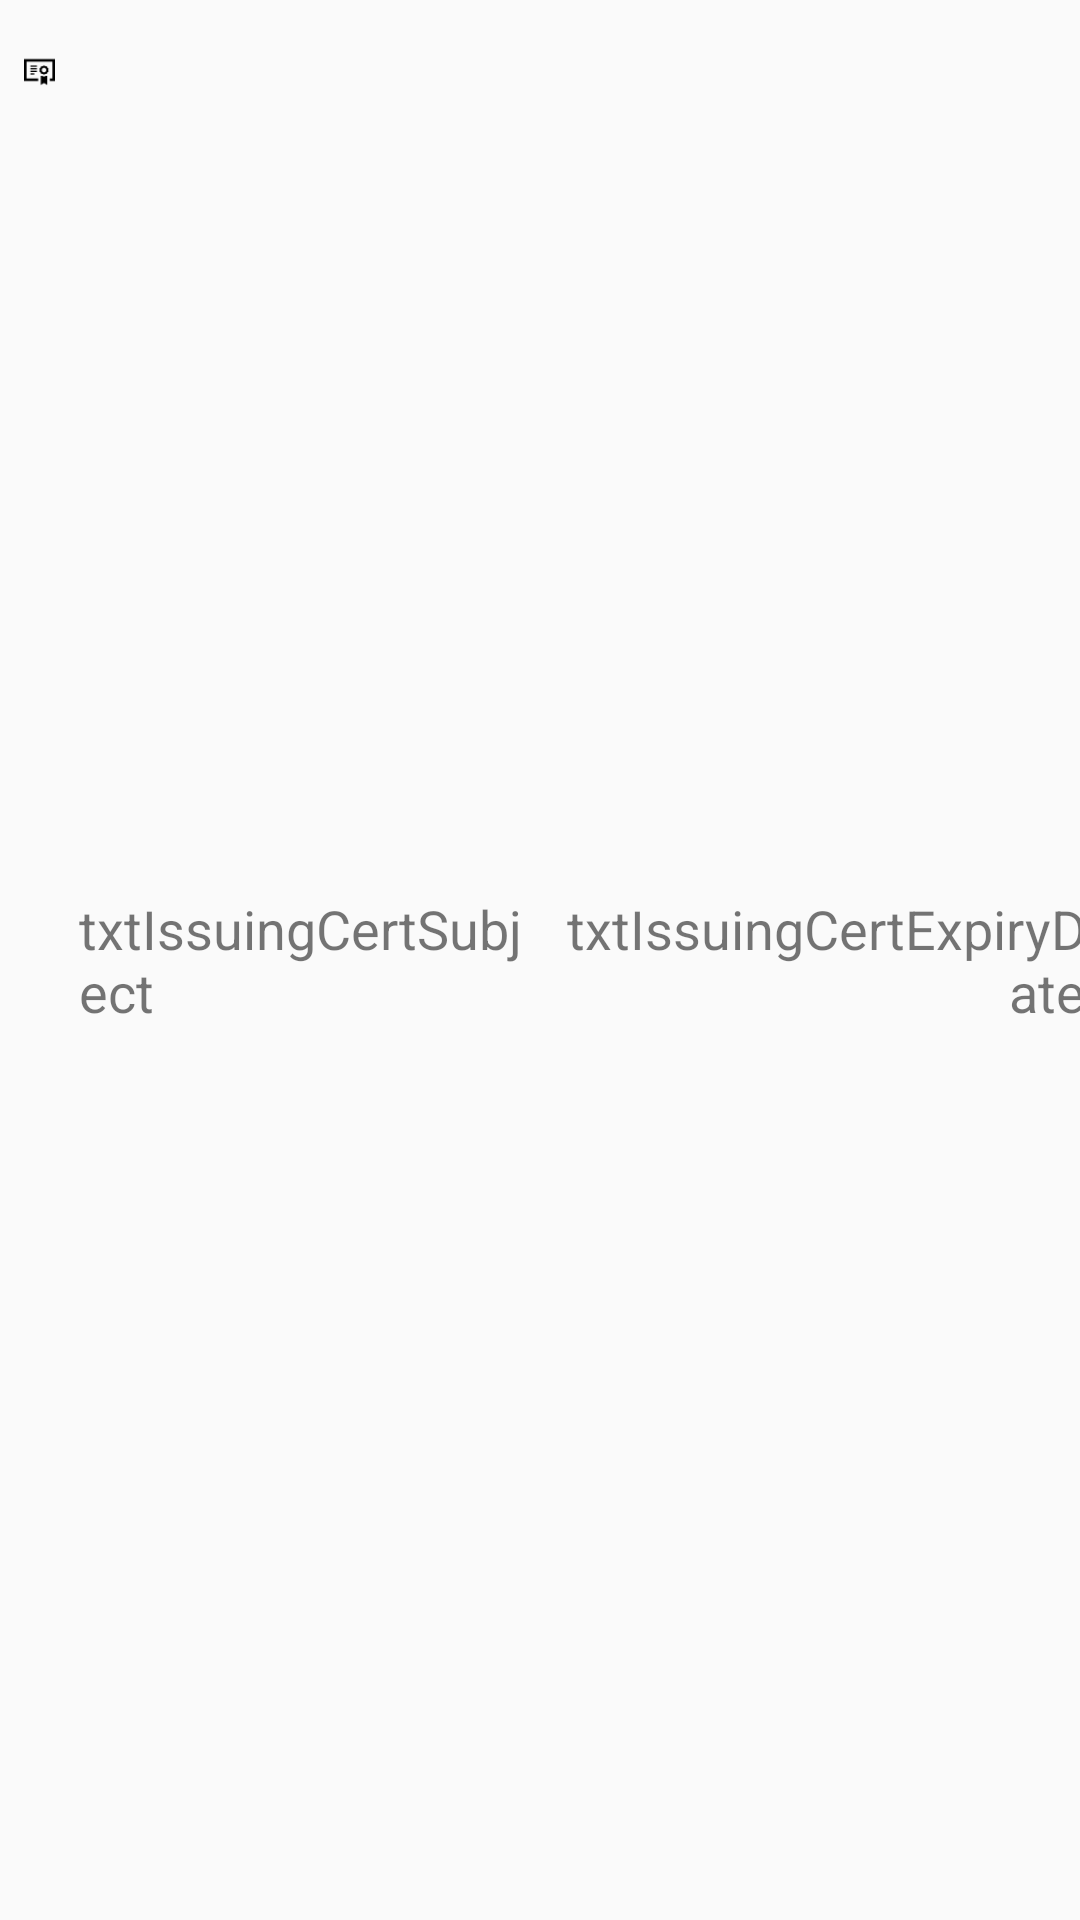

Icon click points for this 1080w x 1920h phone screenshot, format [x,y]:
certificate: [39,71]
